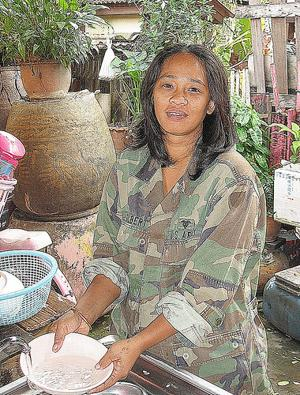person: (52, 40, 279, 395)
